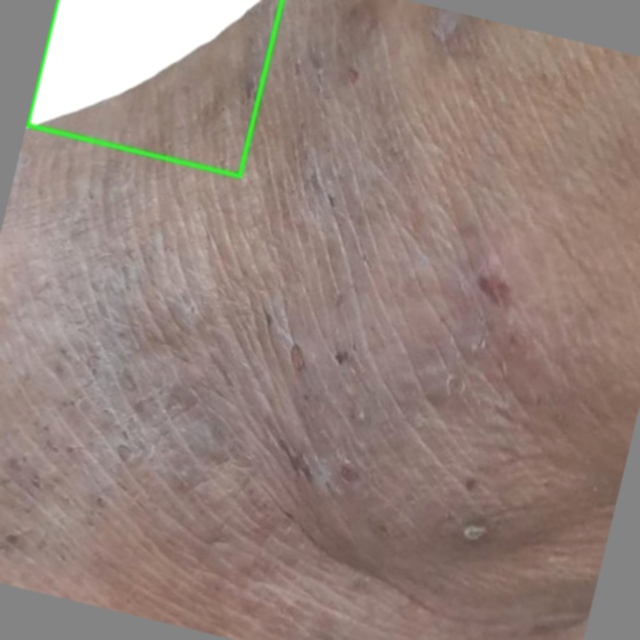Contact Dermatitis: (27, 0, 281, 176)
